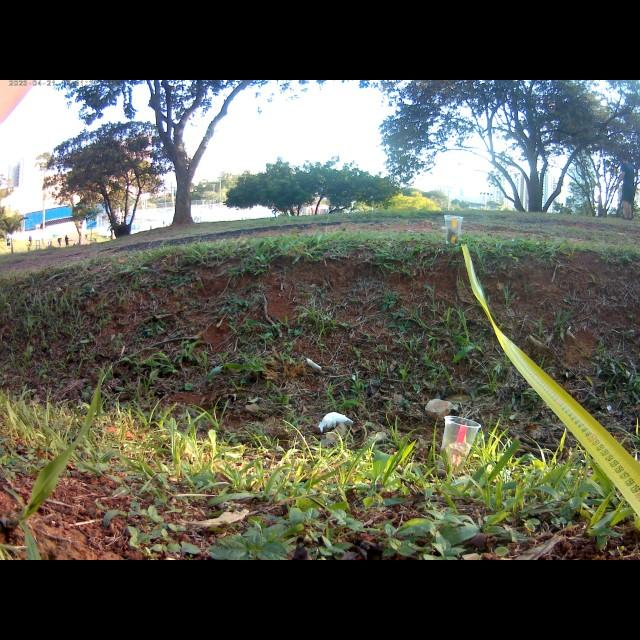ravina: (7, 253, 640, 459)
